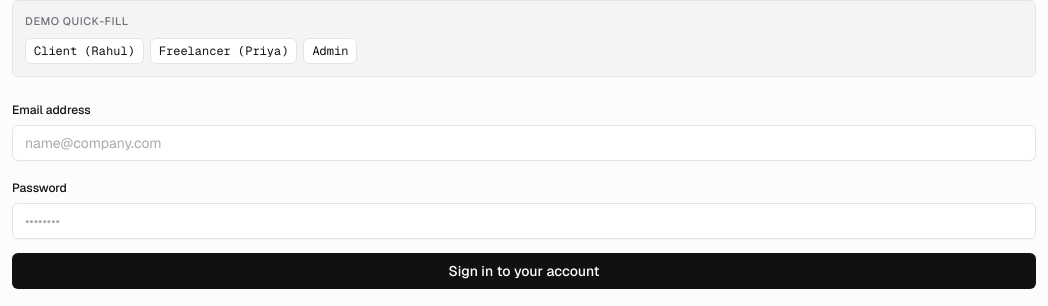
LoginForm validation and interactions › autofills credentials when clicking quick-fill demo button
What coordinates should you click on to do the following:
click the button "Client (Rahul)"
I would click on:
 (84, 50)
Its box is [25, 38, 144, 64].
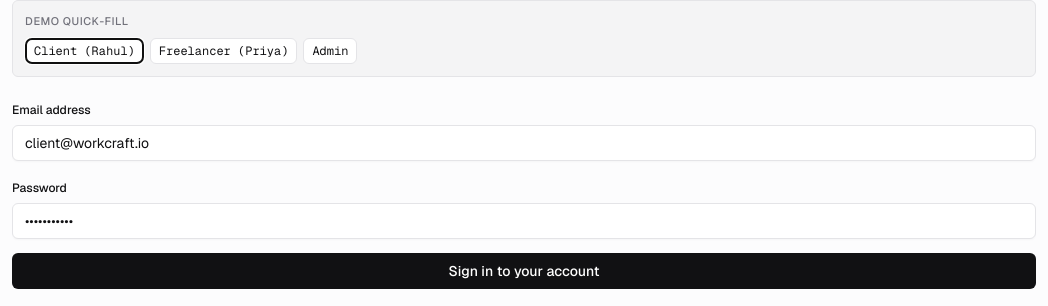
Now the field labelled "Email address" holds "client@workcraft.io", box [12, 124, 1036, 160]
